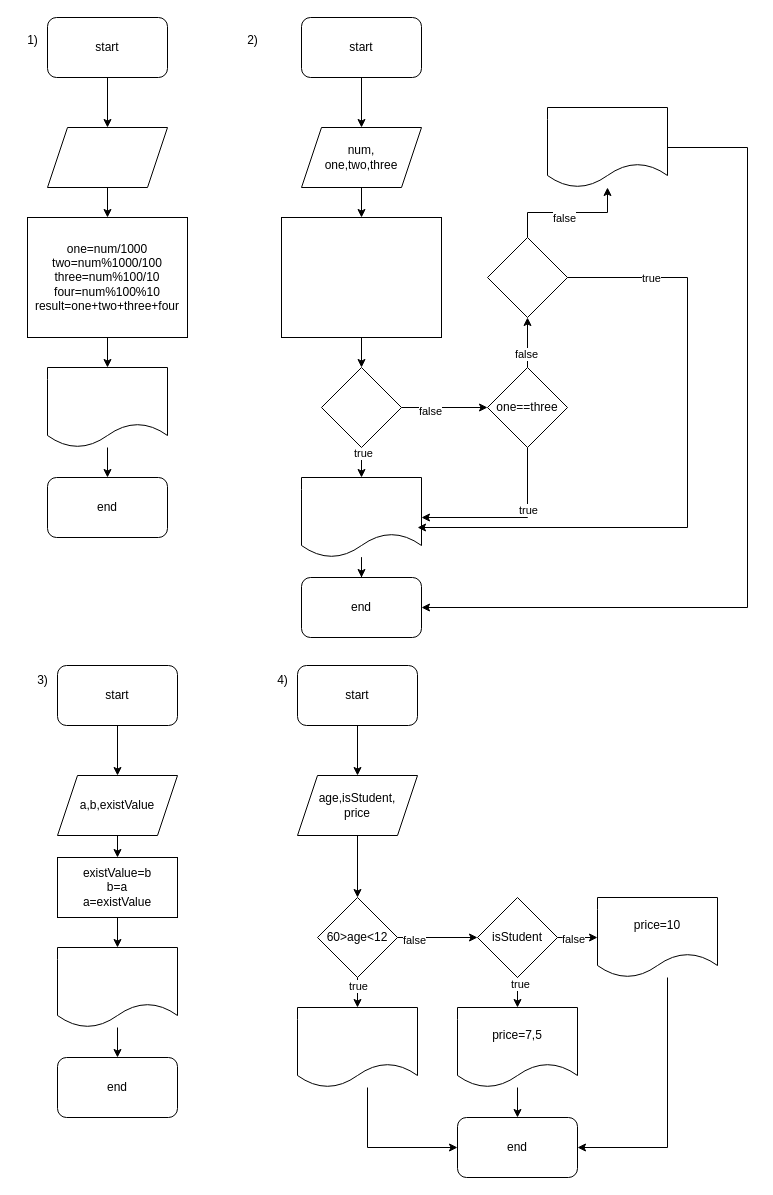
Some shapes in this 773 by 1195 pixel diagram are drawn without their labels. The box of each missing label's shape, as (x1, y1, x2, y2) in pixels:
a,b: (56, 946, 178, 1028)
ferqlenmeyen reqemler var: (300, 476, 422, 558)
num, one,two,three,four: (46, 126, 168, 188)
one==two: (320, 366, 402, 448)
one=num/1000 two=num%1000/100 three=num%100/10: (280, 216, 442, 338)
price=5: (296, 1006, 418, 1088)
result: (46, 366, 168, 448)
tekrerlanan reqem yoxdur: (546, 106, 668, 188)
two: (486, 236, 568, 318)
